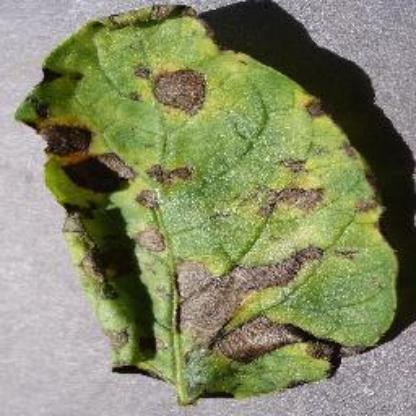Early-Blight: (15, 2, 415, 410)
